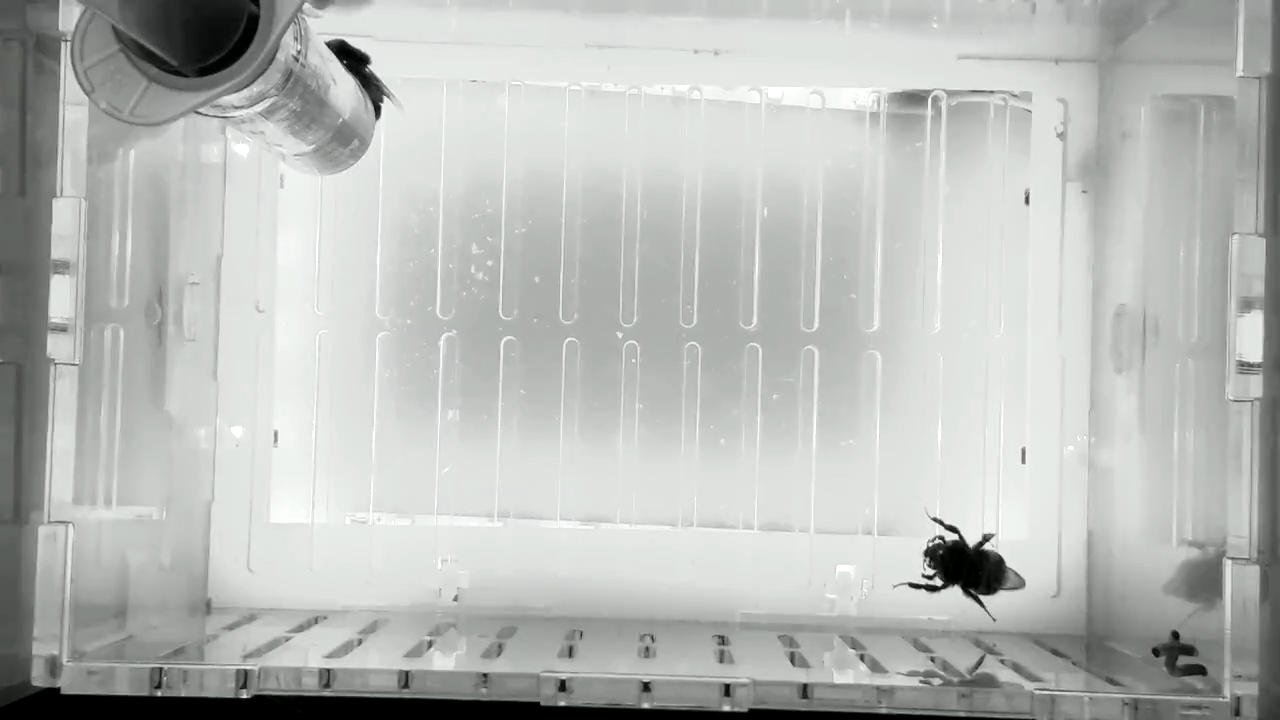bee_alive: (891, 505, 1029, 625), (320, 33, 408, 128)
feeder: (217, 23, 379, 178)
